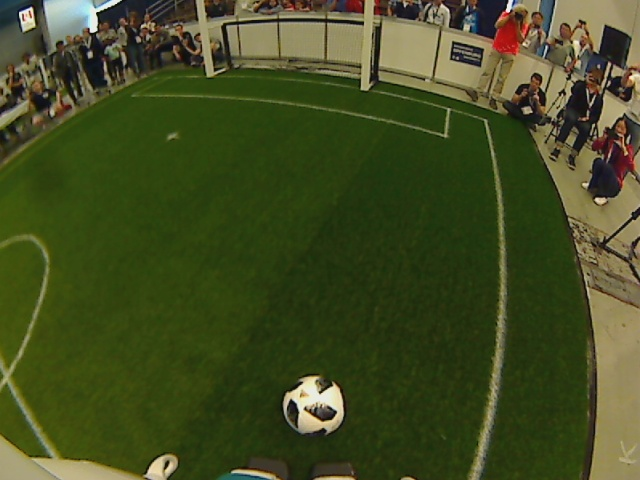ball: (279, 374, 345, 439)
